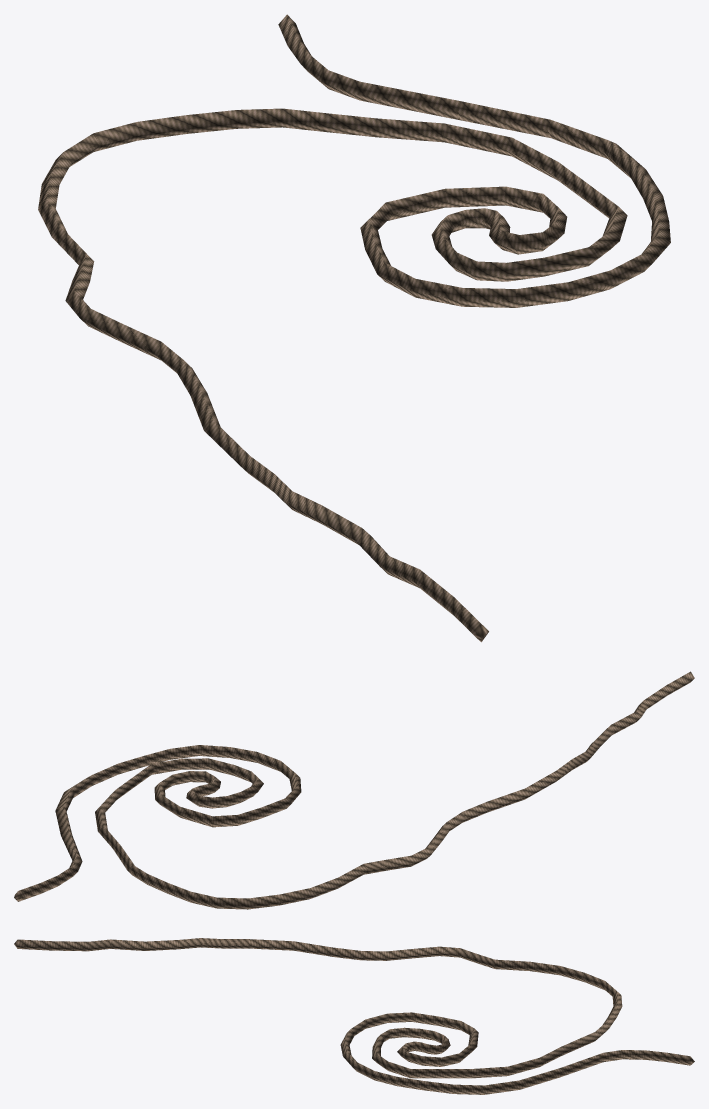
The model's file is Rope_1.FBX.
3 renders of one model, top to bottom at view 1: azimuth 30°, elevation 25°; view 2: azimuth 150°, elevation 25°; view 3: azimuth 270°, elevation 25°, orthographic. The views are drawn at different scales.
Visible parts, largest first — view 1: Mesh; view 2: Mesh; view 3: Mesh.
Boxes of the visible parts, left/top/right/bottom form: Mesh: left=38, top=14, right=670, bottom=642; Mesh: left=14, top=671, right=694, bottom=909; Mesh: left=14, top=938, right=694, bottom=1094.
Size of the model in its own units: 141 by 269 by 5.15.
